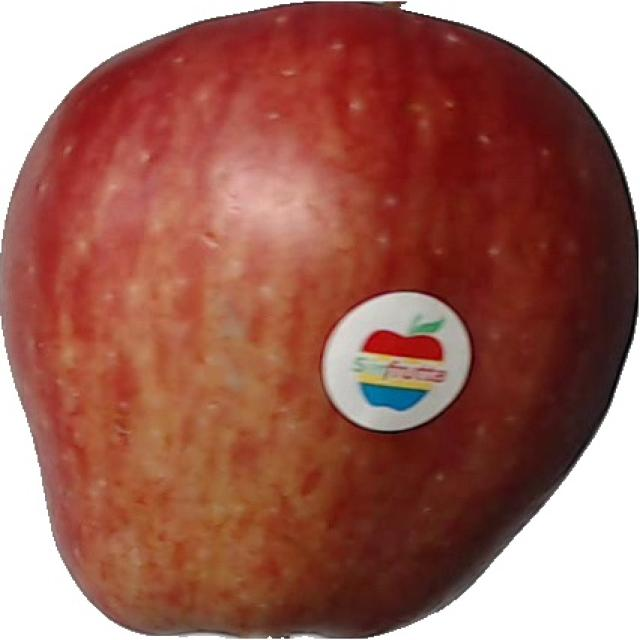apple: (0, 3, 640, 640)
